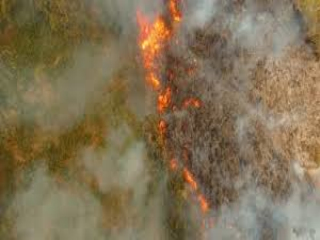fire: (133, 7, 206, 124), (158, 129, 219, 212)
